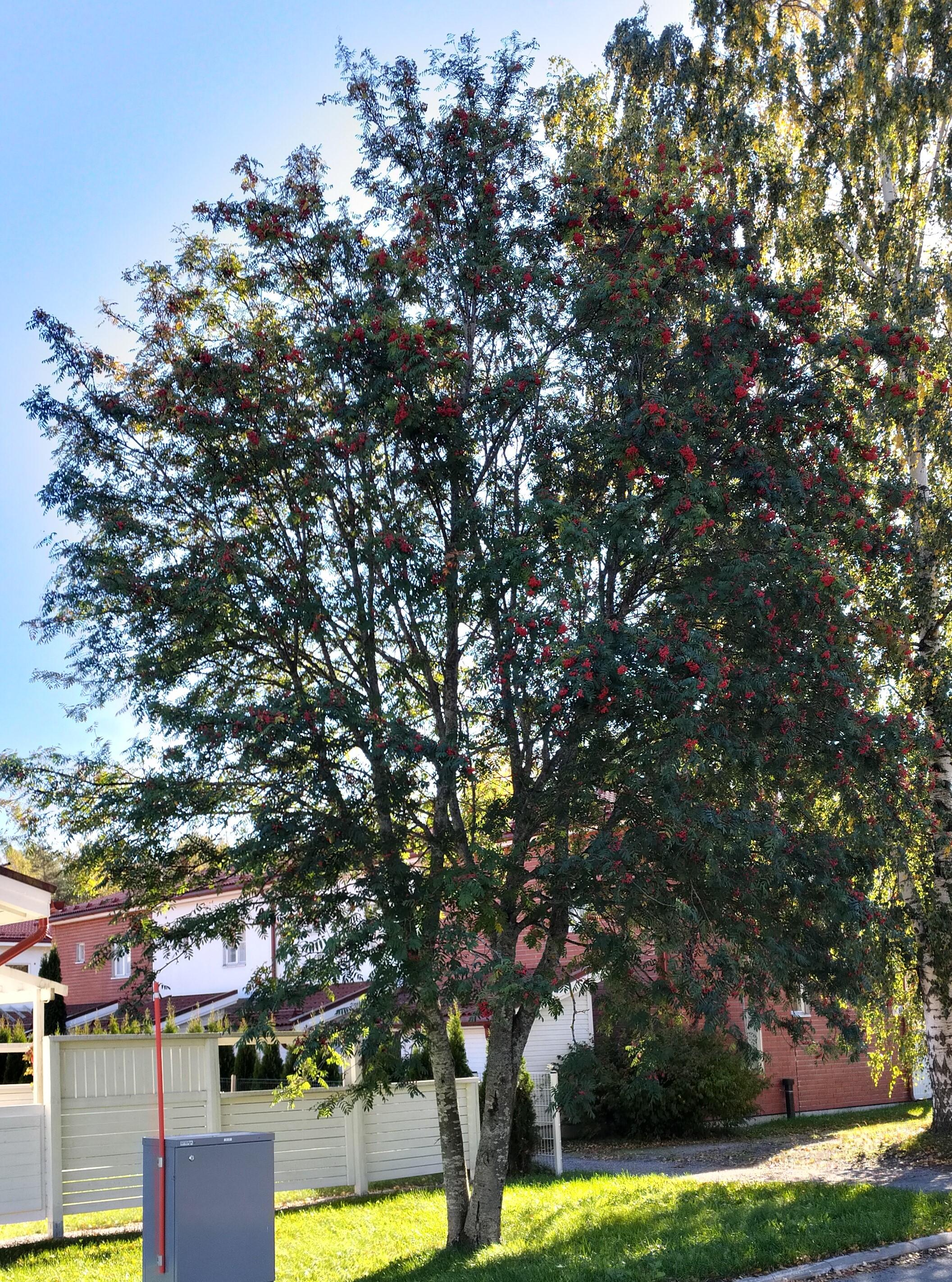Rowan: (123, 8, 917, 1246)
